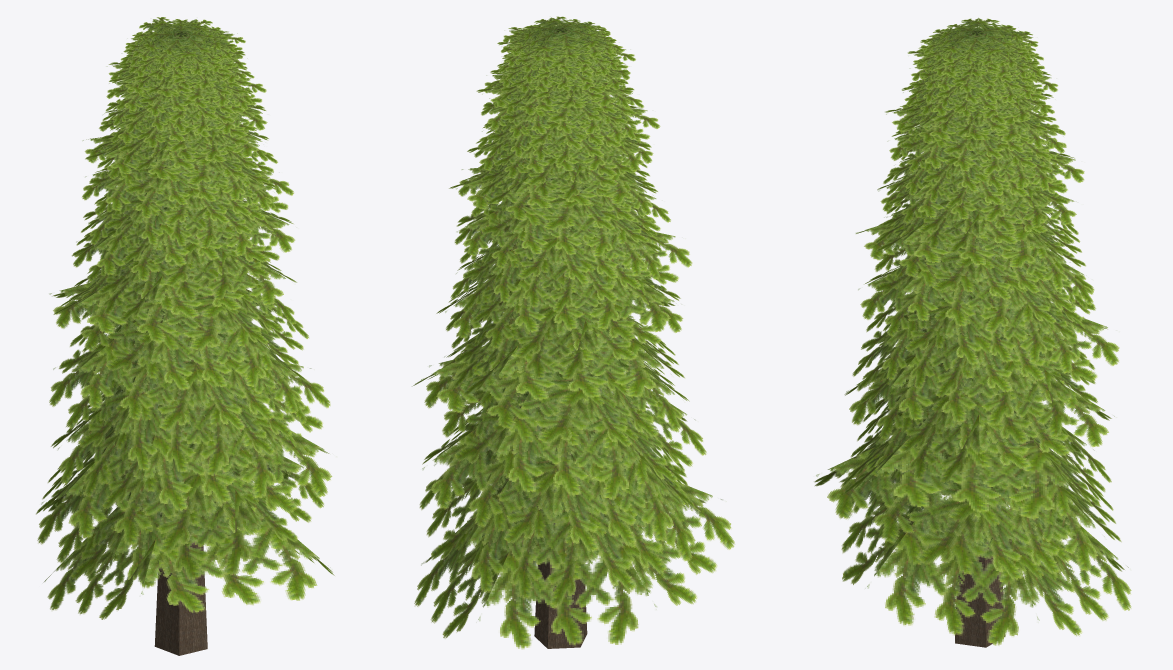
The model's file is tree.glb.
3 views of the same model, side by side, from view 1: azimuth 30°, elevation 25°; view 2: azimuth 150°, elevation 25°; view 3: azimuth 270°, elevation 25° (orthographic).
Visible parts, largest first — view 1: Cone; view 2: Cone; view 3: Cone.
Part boxes in pixels (x1,y1,x2,y2): Cone: (36,17,334,655); Cone: (412,16,734,649); Cone: (814,18,1131,647).
Bounding box in the file's own units: 6.29 × 12.02 × 6.75.
Materials: 2 (2 with a texture image).
